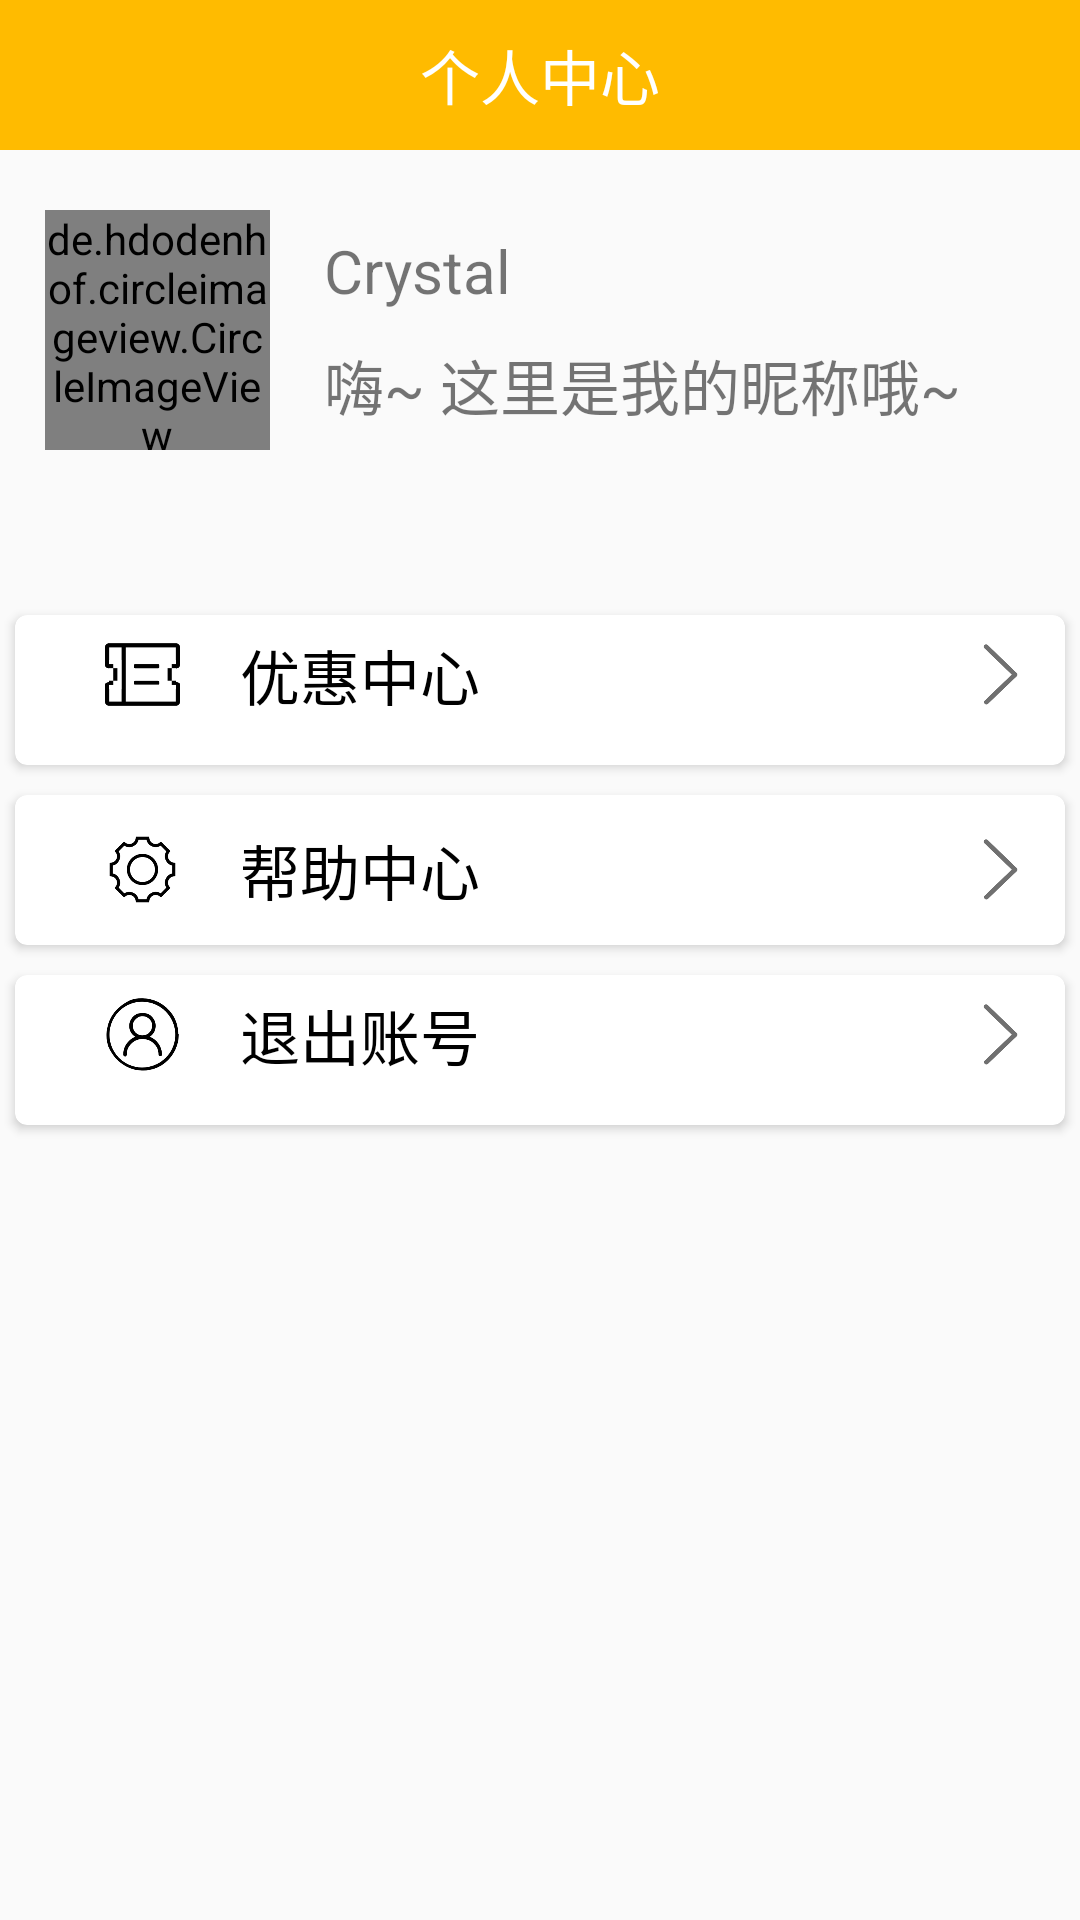

Where icons sit on this 1080x1920 app screen, as [x1, y1, x2, y2]:
account: [106, 998, 179, 1071]
right: [984, 644, 1018, 705], [984, 839, 1018, 900], [984, 1004, 1018, 1065]
setting: [109, 836, 176, 903]
youhui: [105, 643, 180, 706]
